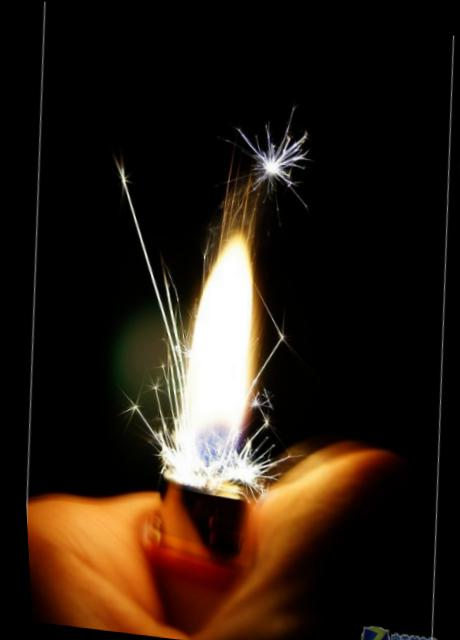fire: (161, 222, 265, 460)
